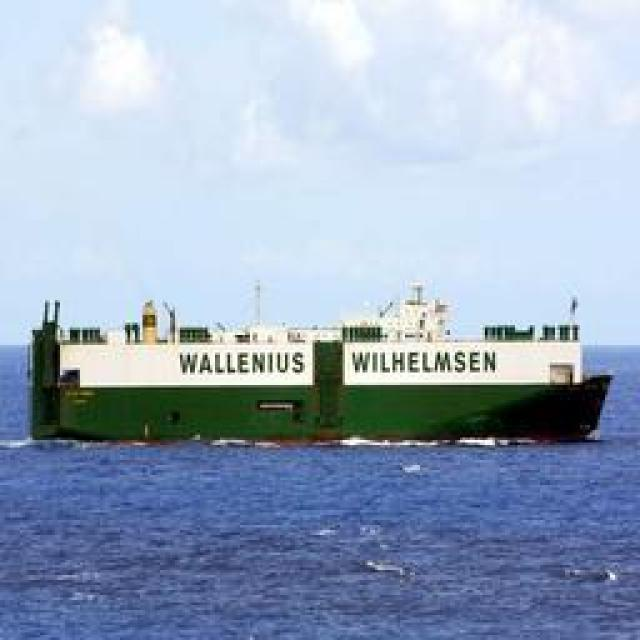ship2: (30, 282, 613, 446)
